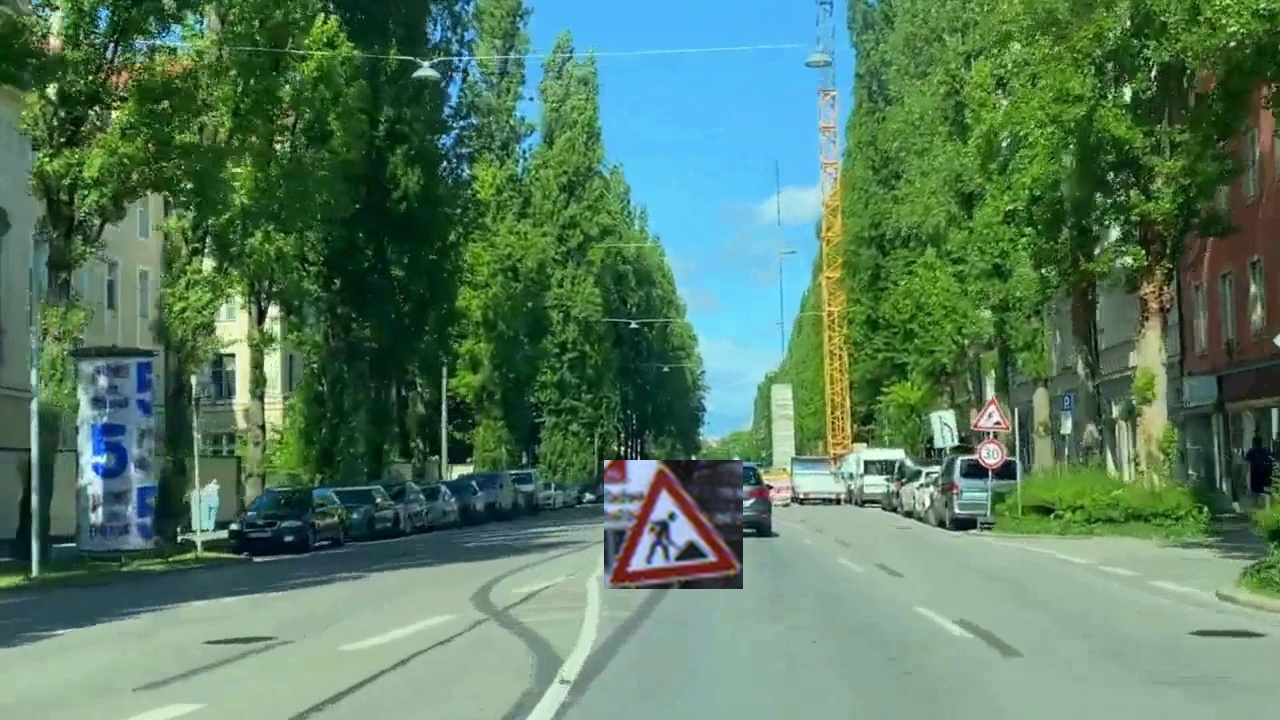Road work: (604, 460, 743, 589)
